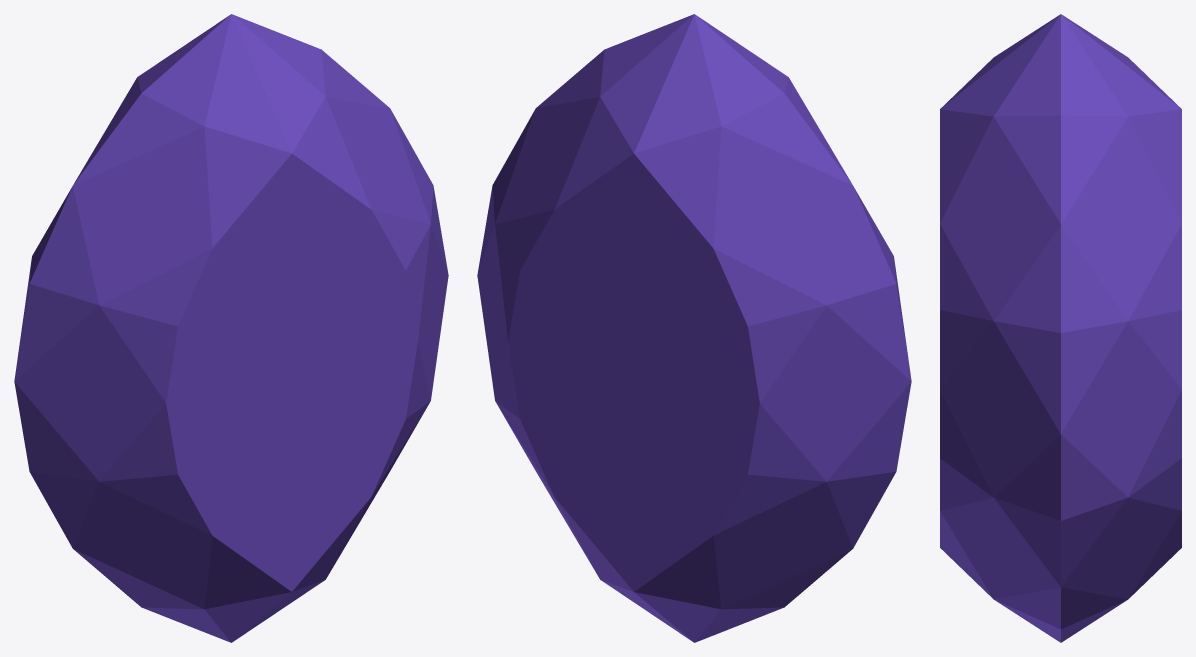
File: Gem_6-1.fbx
3 views of the same model, side by side, from view 1: azimuth 30°, elevation 25°; view 2: azimuth 150°, elevation 25°; view 3: azimuth 270°, elevation 25° (orthographic).
Visible parts, largest first — view 1: Gem_6-1; view 2: Gem_6-1; view 3: Gem_6-1.
Part boxes in pixels (bbox=[...]): Gem_6-1: bbox=[14, 14, 448, 642]; Gem_6-1: bbox=[477, 14, 911, 642]; Gem_6-1: bbox=[940, 14, 1181, 642].
Size of the model in its own units: 52.91 by 73.22 by 25.53.
